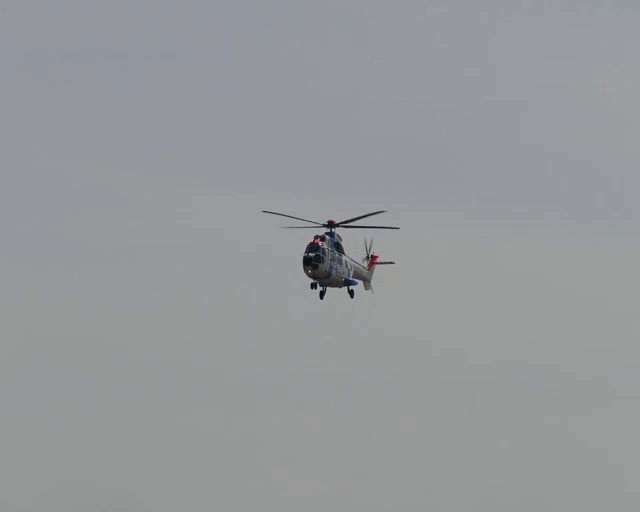HELICOPTER: (260, 207, 400, 300)
